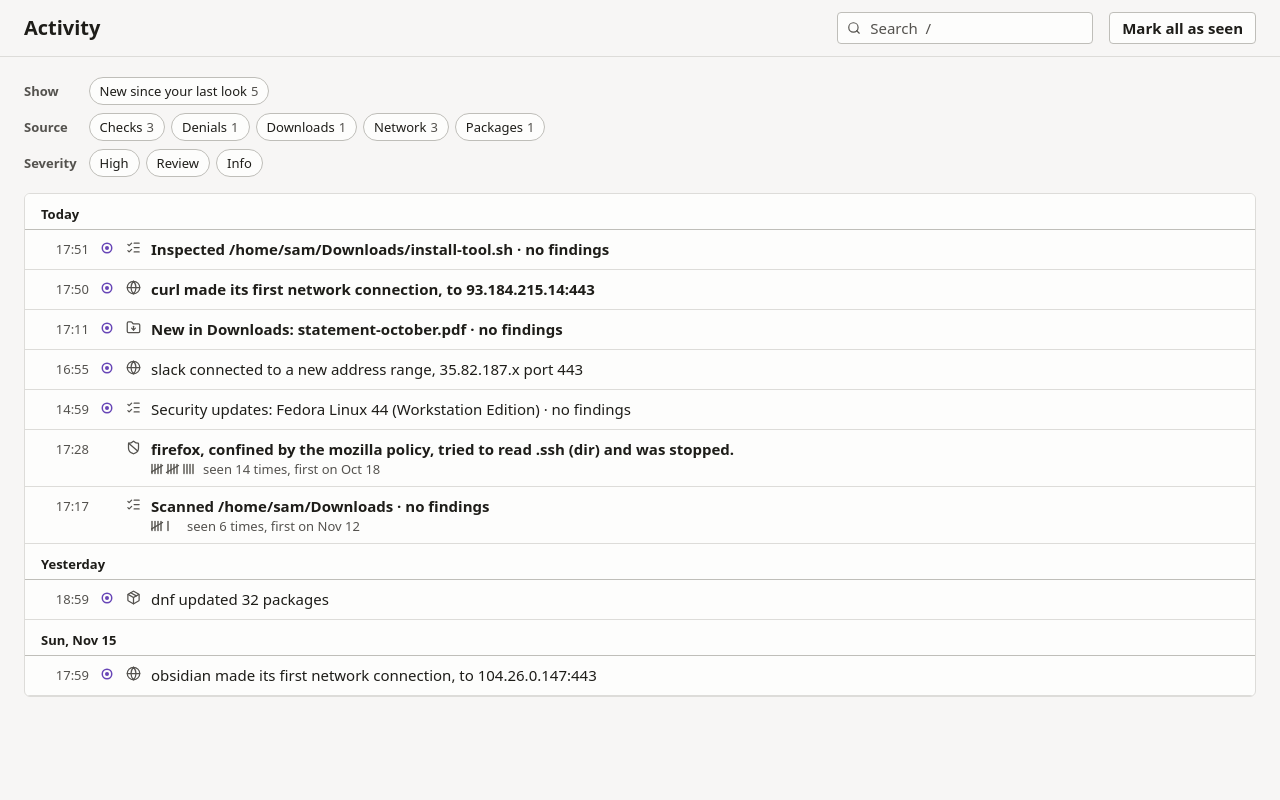
it: Activity › folds repeated scans and filters by severity
The width and height of the screenshot is (1280, 800).
Check: the text "seen 6 times, first on Nov 12" is shown, box [151,517,360,535]
Click the button "High" at (114, 163), box [89,149,140,177]
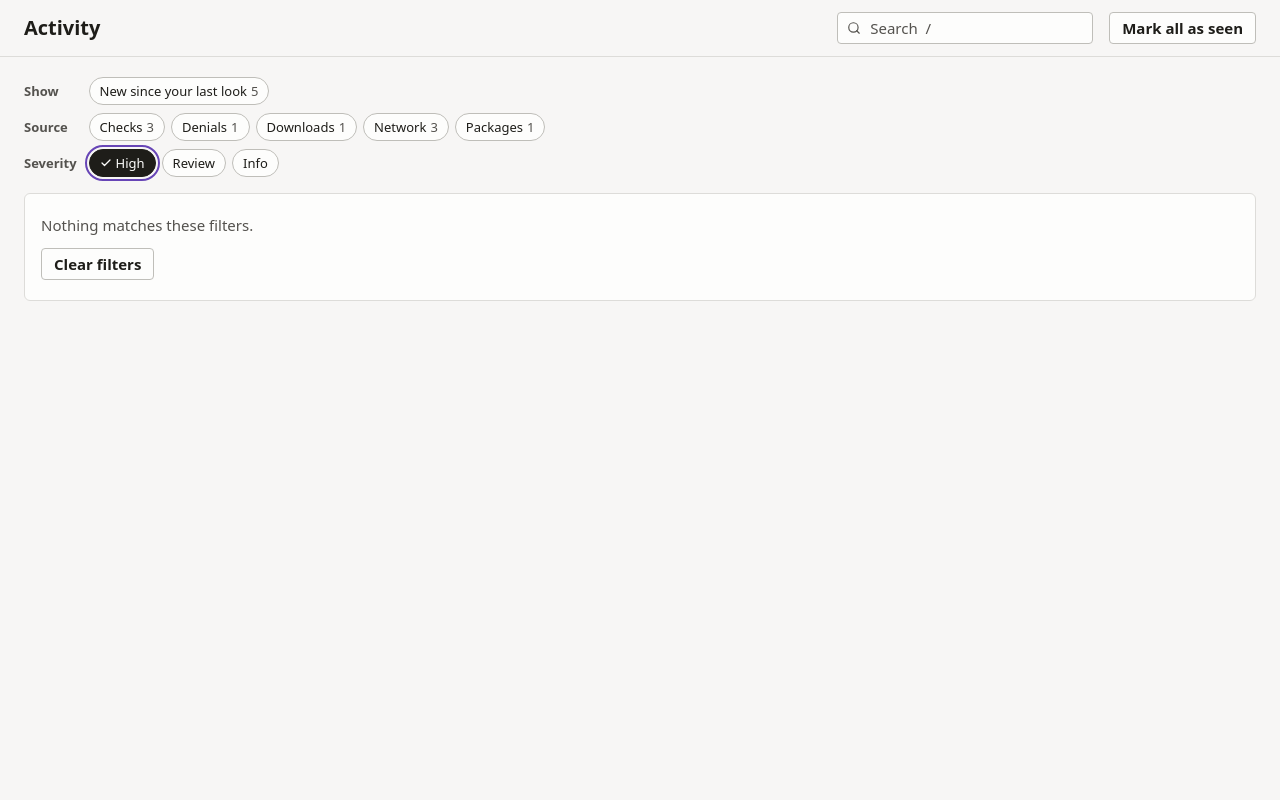
Check: the text "Nothing matches these filters." is shown, box [41,214,253,236]
Click the button "Clear filters" at (98, 264), box [41,248,154,280]
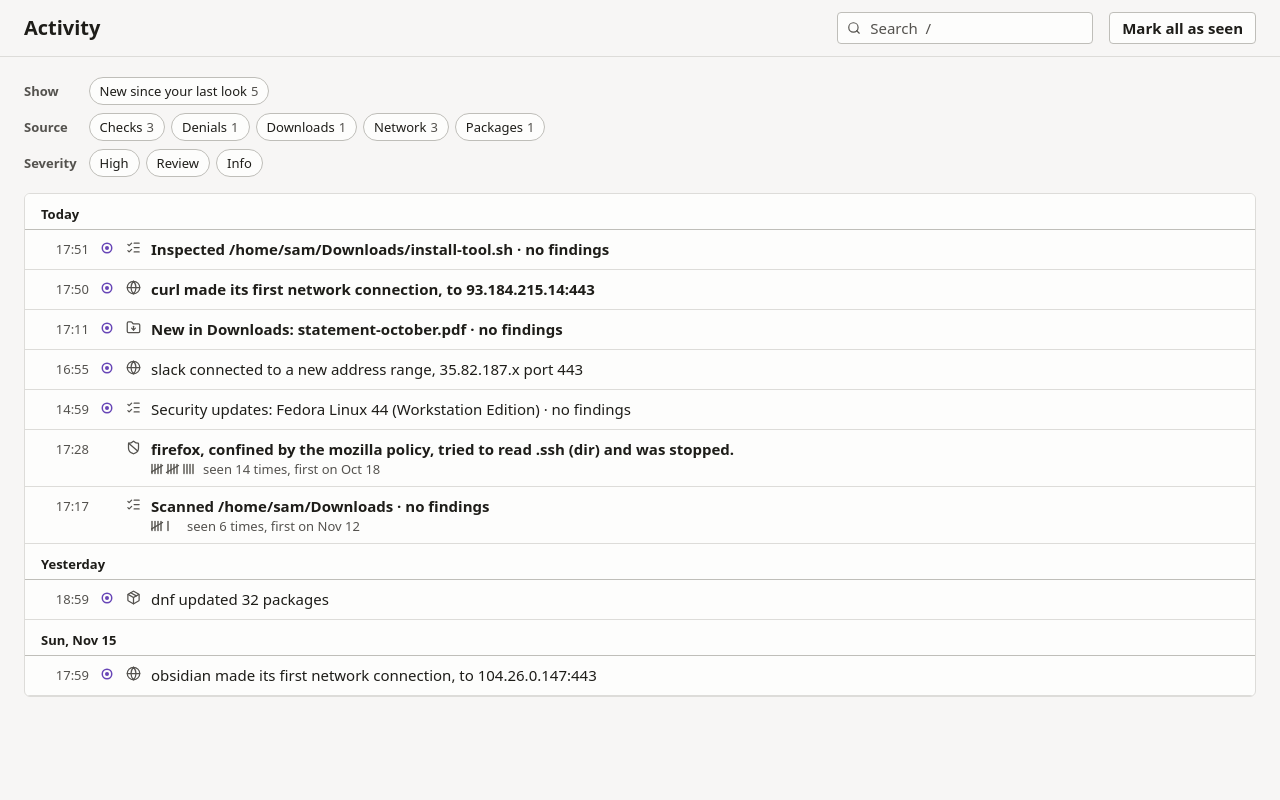
Check: the text "seen 6 times, first on Nov 12" is shown, box [151,517,360,535]
